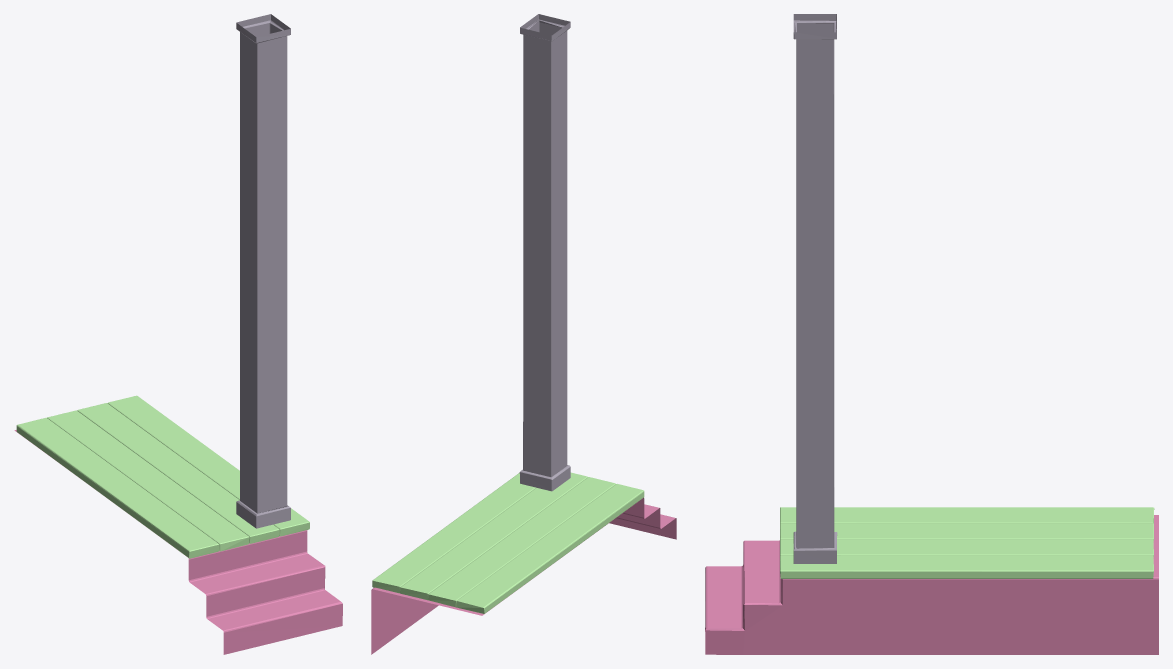
Rendered from SM_House_FrontStairs_A_RHT.fbx.
The picture shows the model from 3 angles, left to right: view 1: azimuth 30°, elevation 25°; view 2: azimuth 150°, elevation 25°; view 3: azimuth 270°, elevation 25°; orthographic projection. The views are drawn at different scales.
Parts seen in each view (by area): view 1: SM_House_FrontStairs_A_RHT; view 2: SM_House_FrontStairs_A_RHT; view 3: SM_House_FrontStairs_A_RHT.
Boxes of the visible parts, x1,y1,x2,y2 form: SM_House_FrontStairs_A_RHT: (14,14,342,654); SM_House_FrontStairs_A_RHT: (371,14,676,654); SM_House_FrontStairs_A_RHT: (705,14,1158,654).
Bounding box in the file's own units: 80.06 × 240 × 360.
